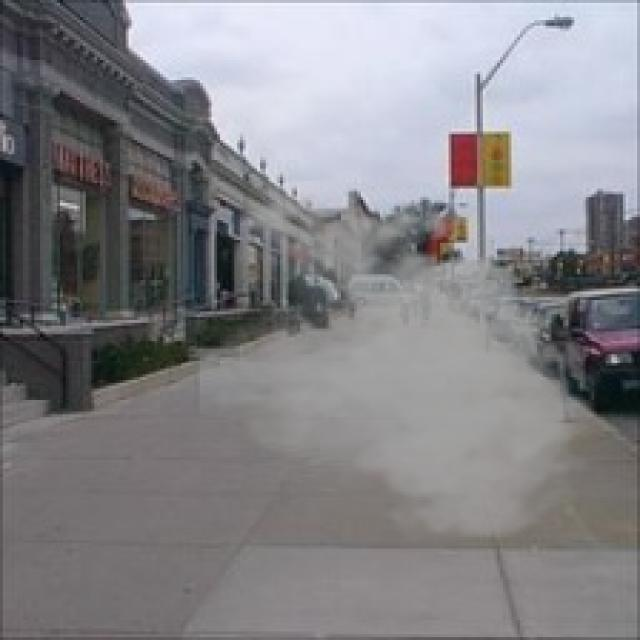smoke: (194, 183, 609, 548)
